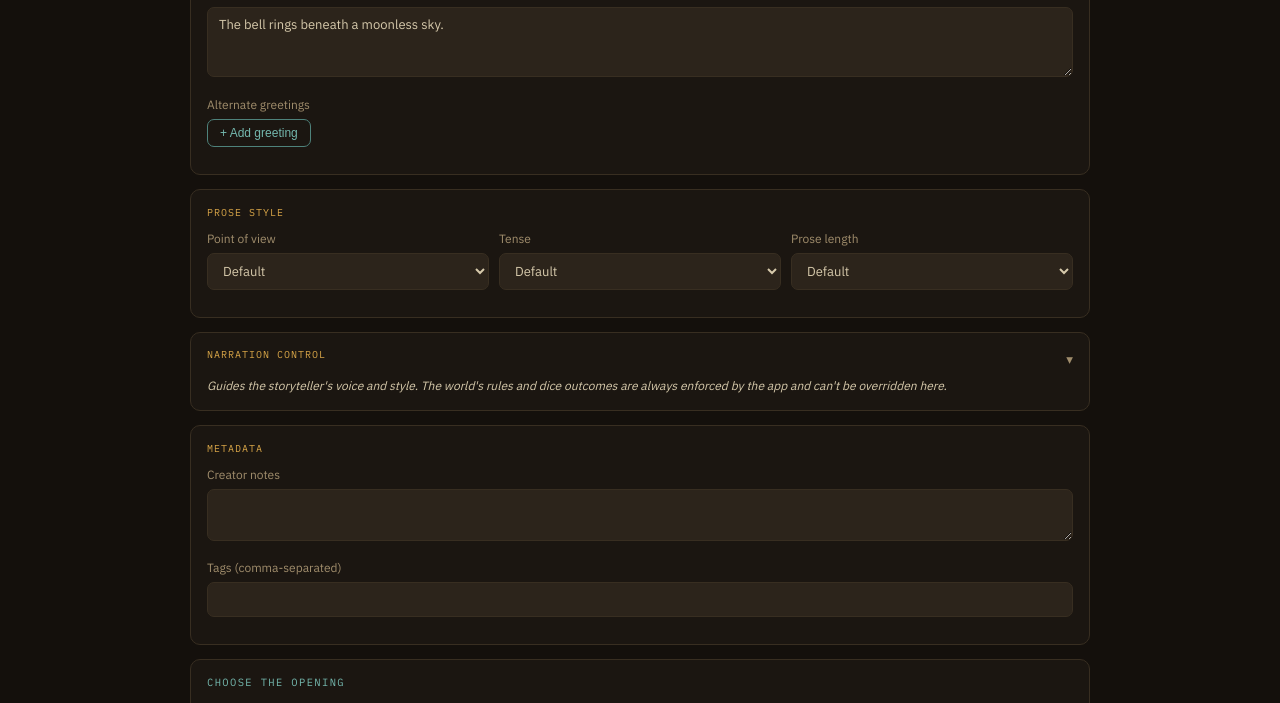
Test case: StoryBlueprint create flow › exposes the full authoring fields before a story is forged
(page scrolled)
Check: the dropdown named "Point of view" is shown, box [207,253,489,290]
Click the button "NARRATION CONTROL ▾". click: x=266, y=354
box: [207,348,1073,371]
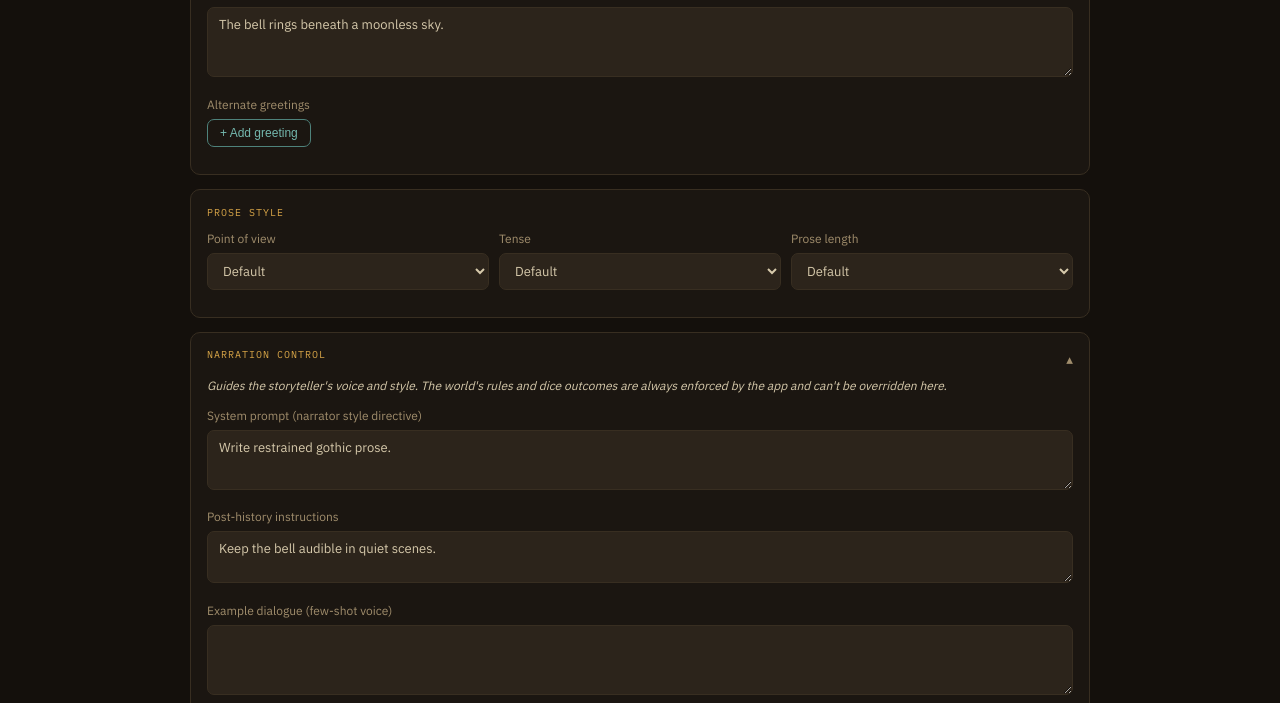
Check: the text box showing "Write restrained gothic prose." below "System prompt (narrator style directive)" is shown, box [207,430,1073,490]
Check: the 3rd text box showing "Keep the bell audible in quiet scenes." is shown, box [207,531,1073,583]
